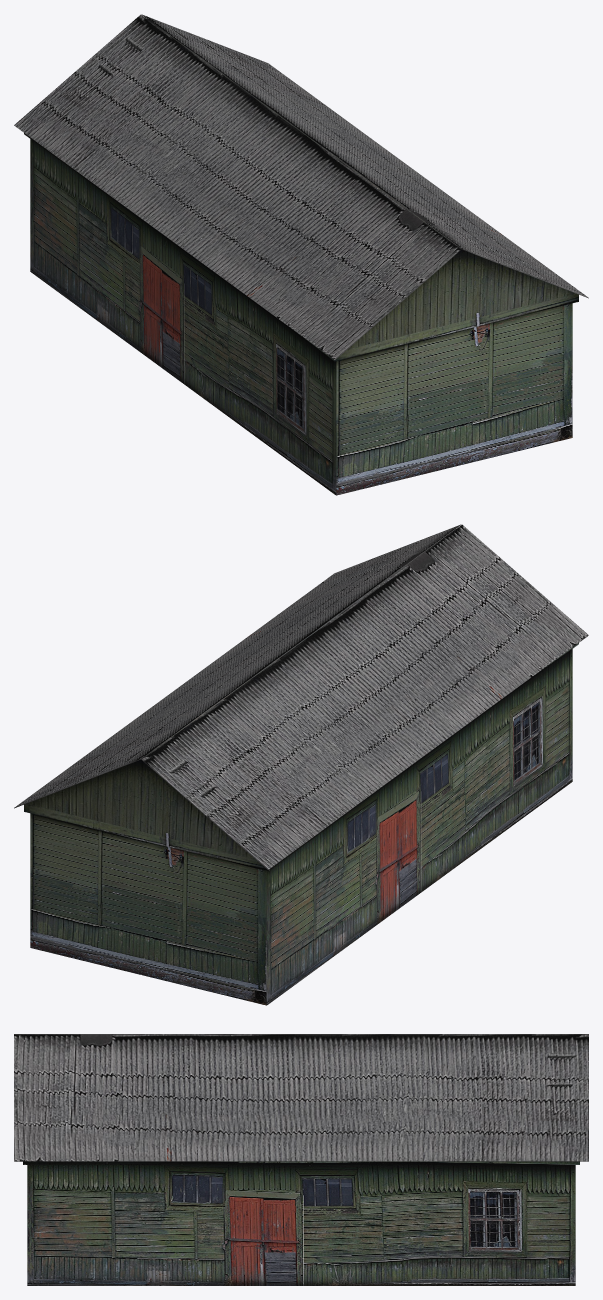
The model's file is sibir_budka2.FBX.
3 views of the same model, one above another, from view 1: azimuth 30°, elevation 25°; view 2: azimuth 150°, elevation 25°; view 3: azimuth 270°, elevation 25° (orthographic). The views are drawn at different scales.
Visible parts, largest first — view 1: sibir_budka2; view 2: sibir_budka2; view 3: sibir_budka2.
Boxes of the visible parts, x1,y1,x2,y2 form: sibir_budka2: (14, 14, 588, 495); sibir_budka2: (14, 524, 588, 1005); sibir_budka2: (14, 1034, 588, 1285).
Bounding box in the file's own units: 591 × 1291 × 495.
